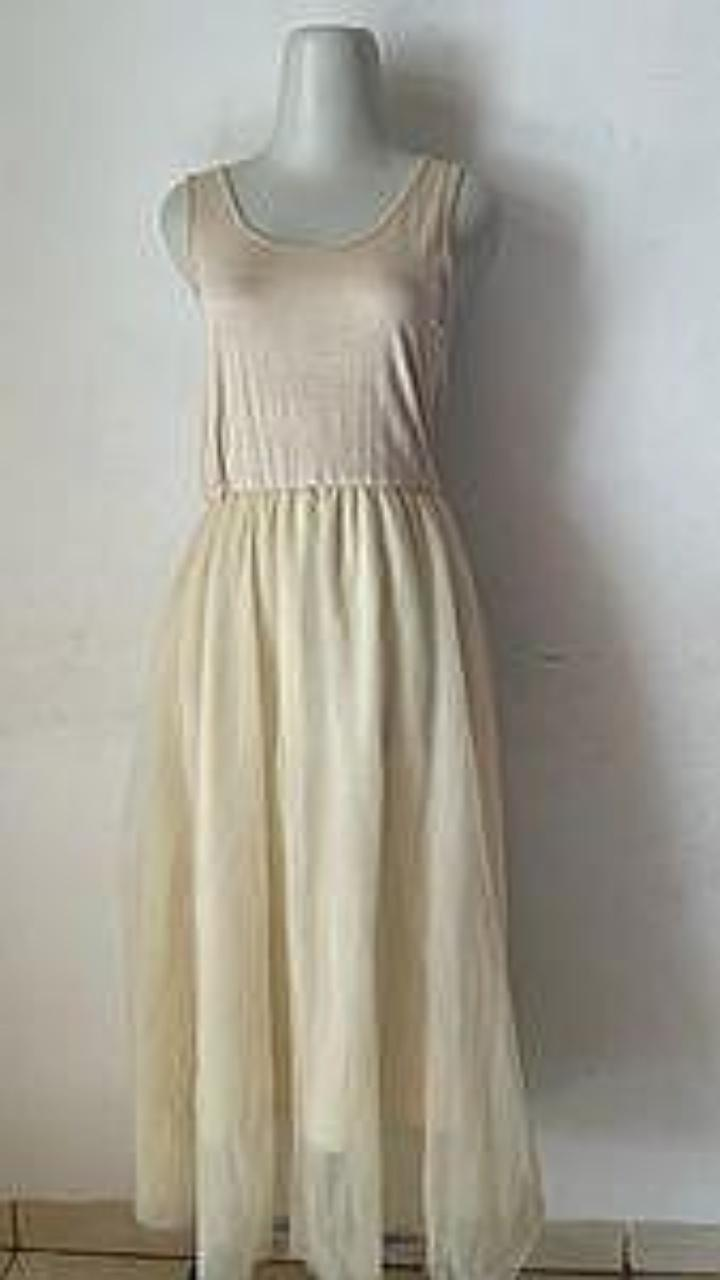Dresses: (127, 155, 543, 1279)
